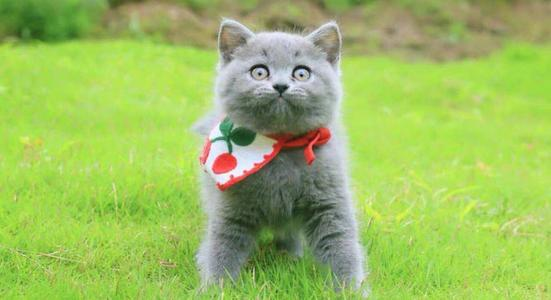cat: (193, 16, 376, 298)
